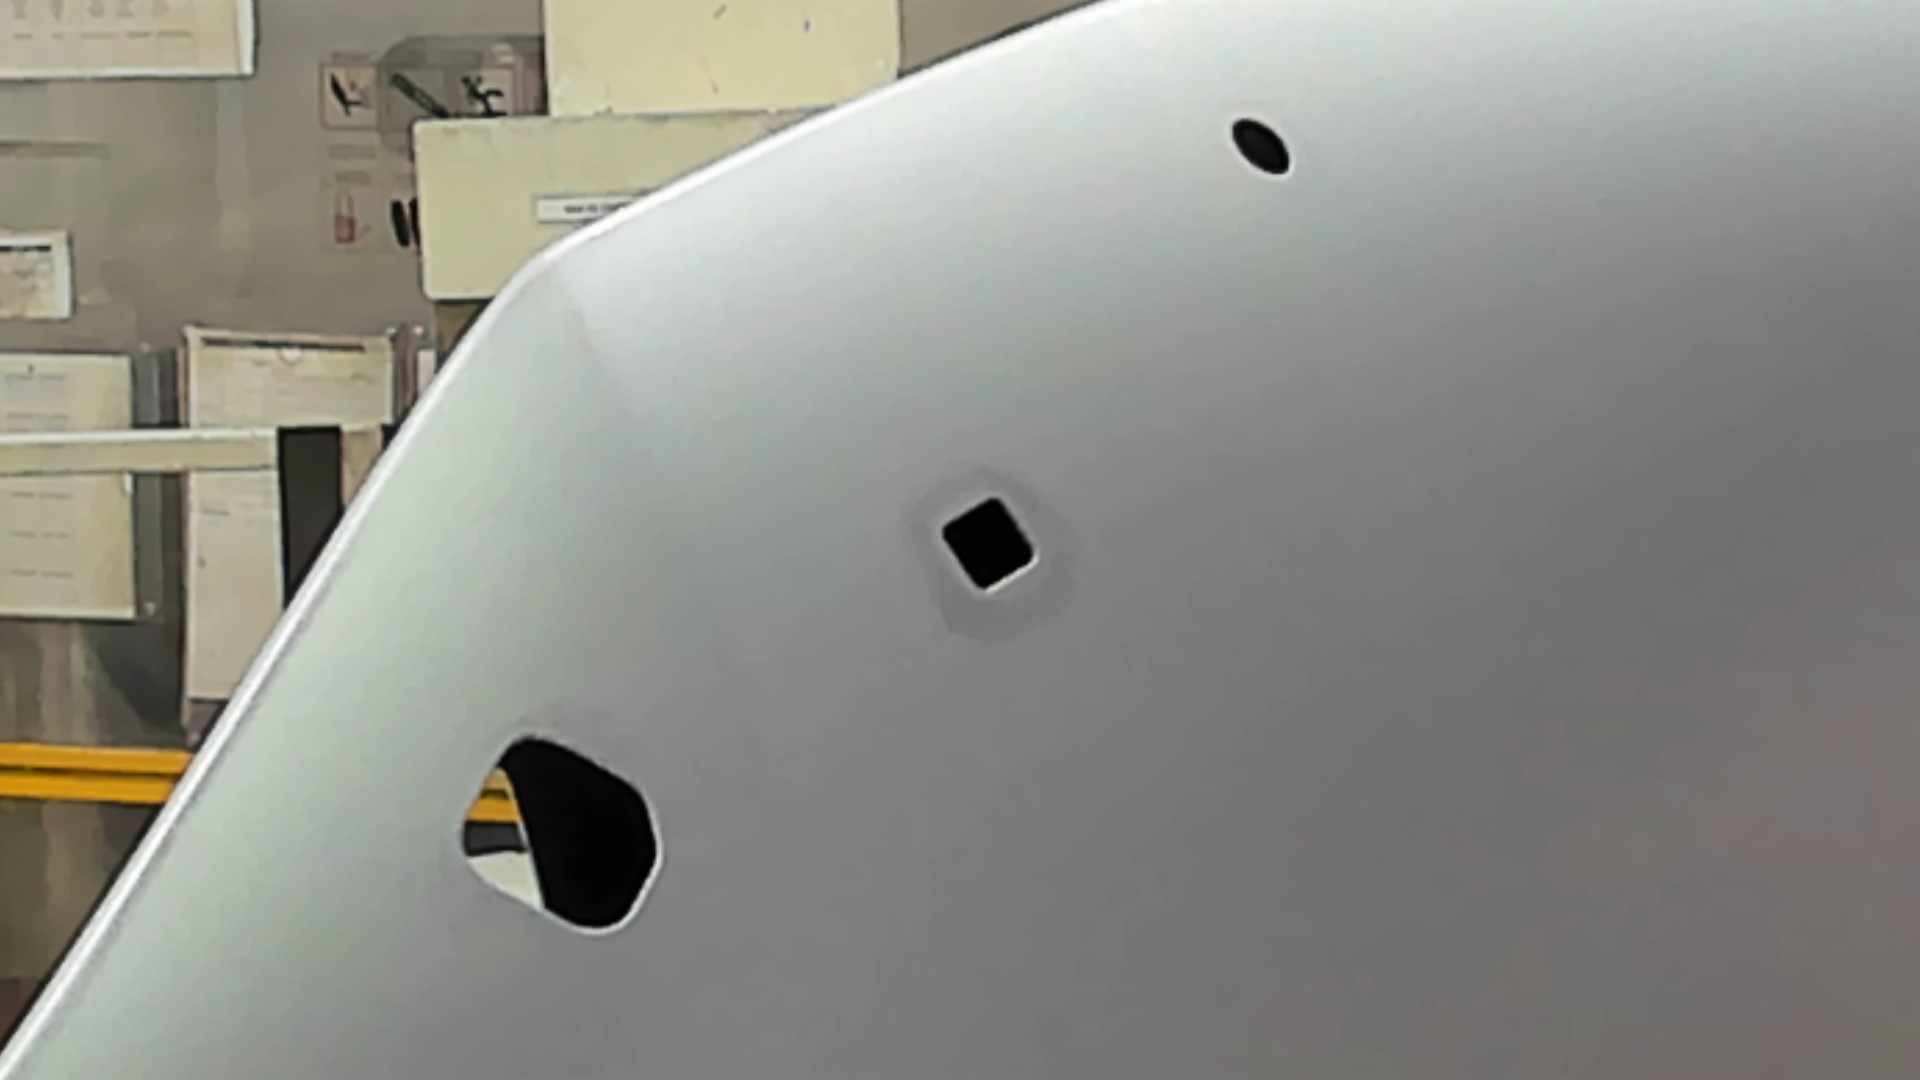capo: (1047, 185, 1920, 1080)
chico: (1225, 111, 1296, 181)
grande: (456, 724, 670, 942)
mediano: (934, 491, 1043, 601)
